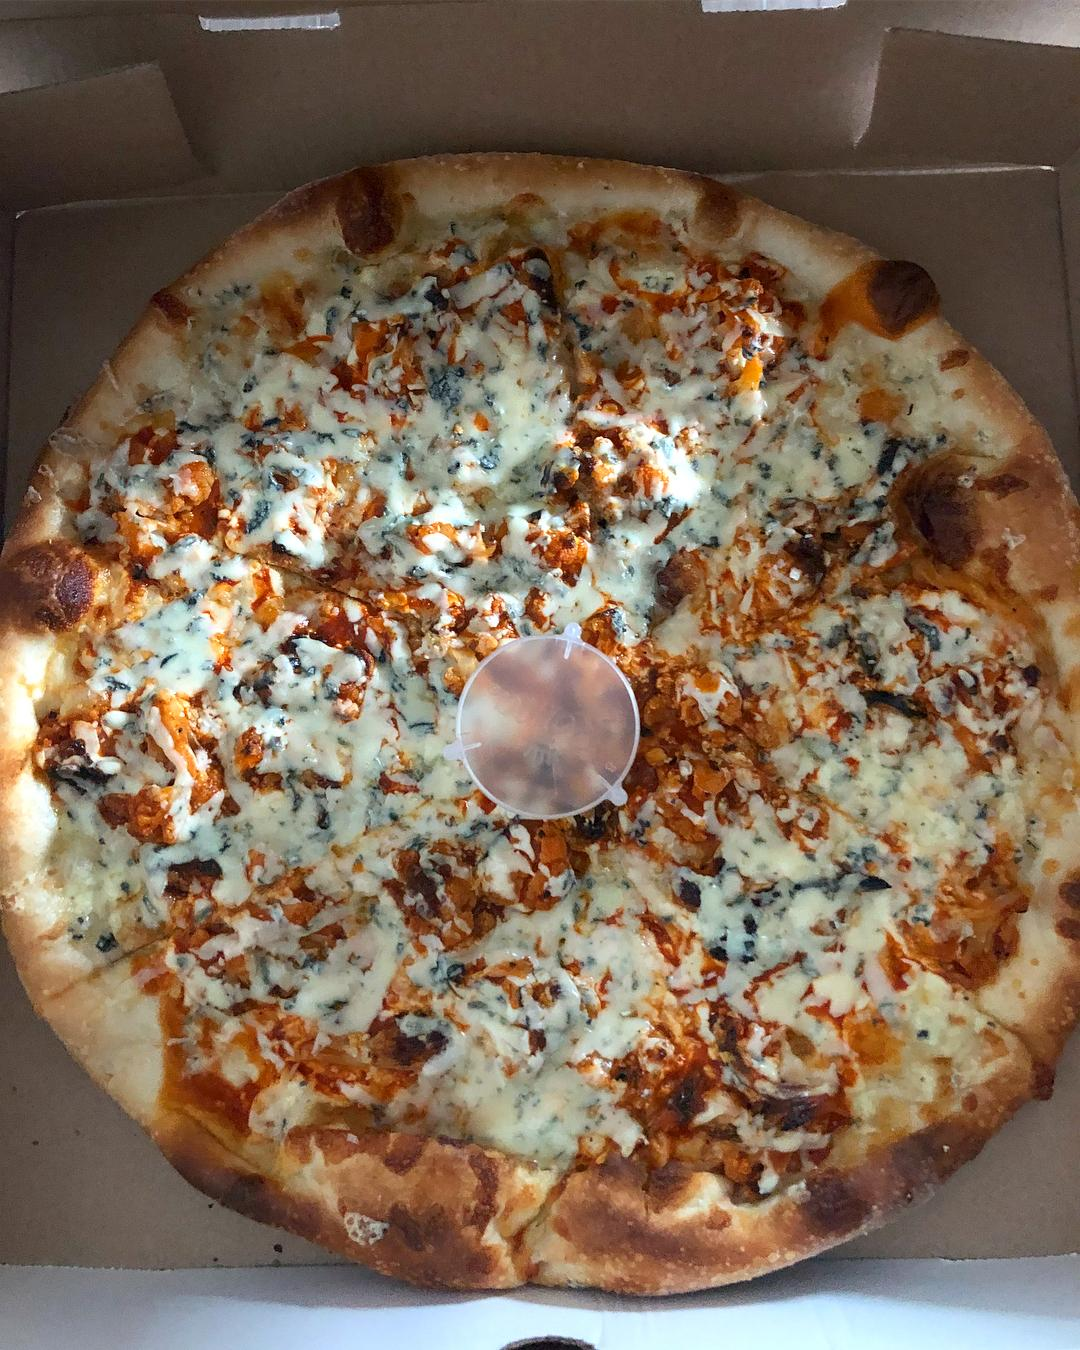Cheese: (386, 878, 700, 1070), (726, 766, 937, 950), (326, 323, 531, 498), (616, 376, 850, 521), (251, 679, 418, 814)
Pizza: (0, 151, 1080, 1295)
